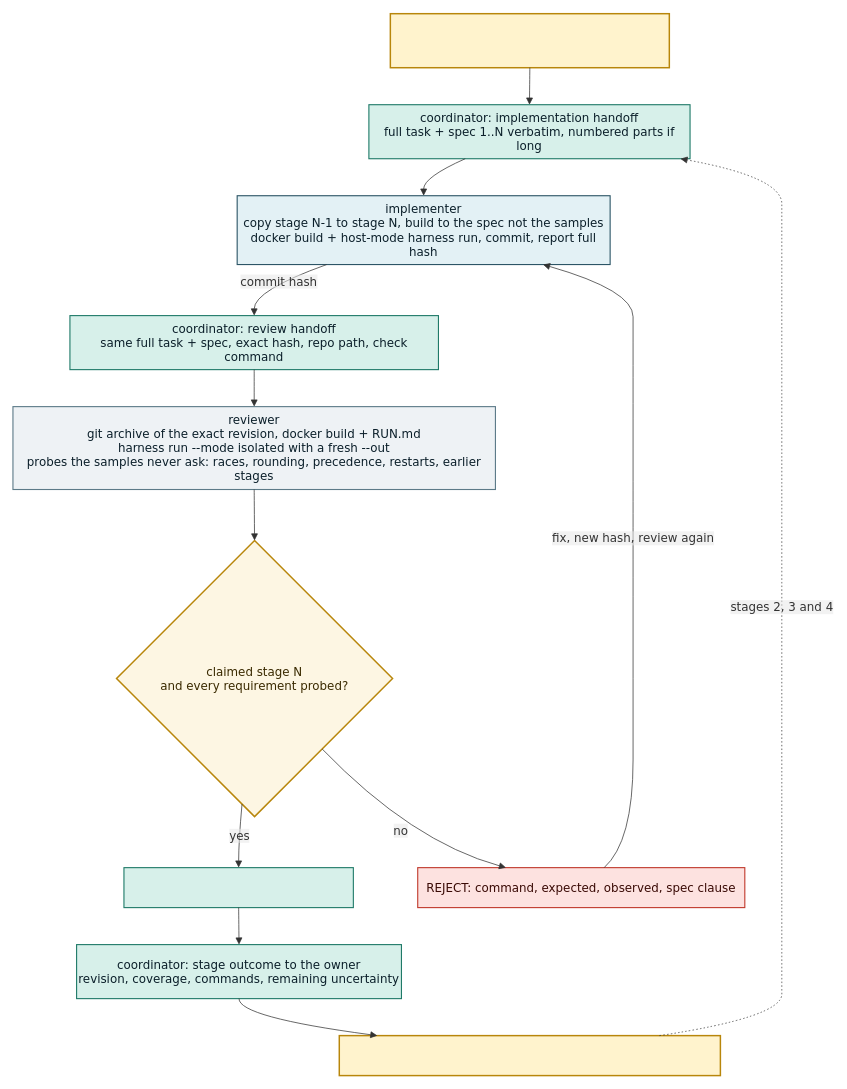
This 847x1089 diagram has some shape labels left out. The shapes that lost their labels are listed below. From the top down, each one's centre as x and y in pixels, then its label:
At [529,40]: "Human dispatch, once track, paths, check command, all four stages".
At [238,887]: "ACCEPT: hash, commands, counts".
At [529,1055]: "next stage: same loop, new folder copied from the accepted one".
